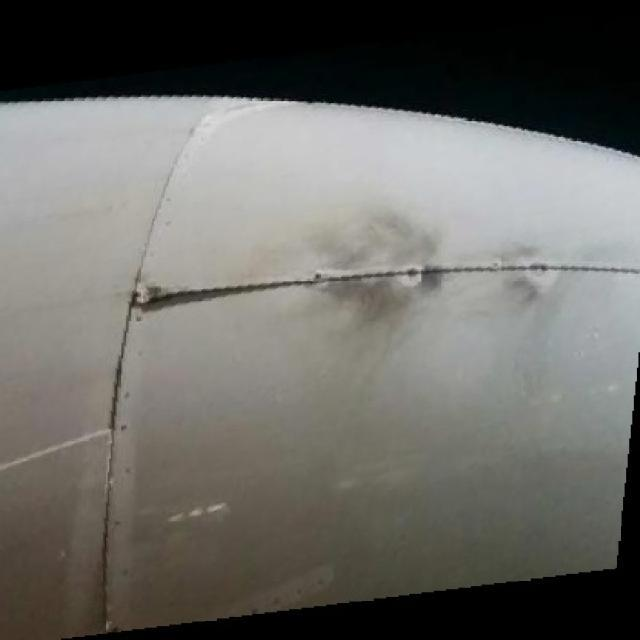crack: (137, 283, 311, 311)
